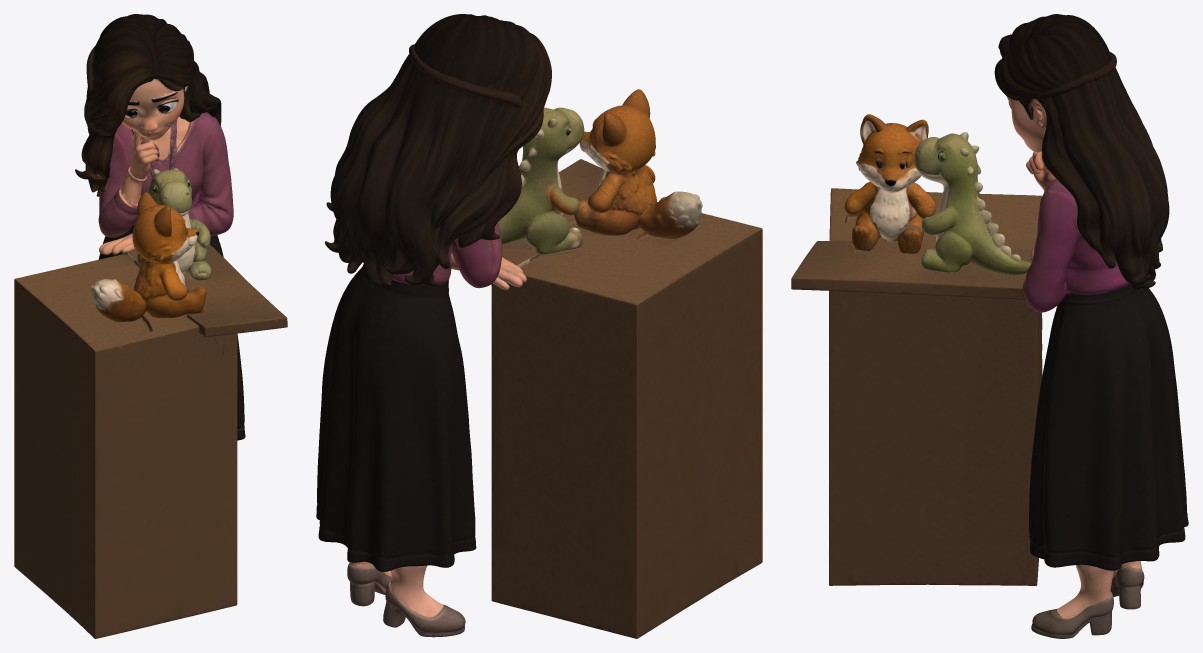
The model's file is chapter4.glb.
The picture shows the model from 3 angles, left to right: view 1: azimuth 30°, elevation 25°; view 2: azimuth 150°, elevation 25°; view 3: azimuth 270°, elevation 25°; orthographic projection. The views are drawn at different scales.
Parts seen in each view (by area): view 1: mesh_node; view 2: mesh_node; view 3: mesh_node.
Boxes of the visible parts, x1,y1,x2,y2 form: mesh_node: (14, 14, 287, 638); mesh_node: (316, 14, 762, 638); mesh_node: (791, 14, 1188, 638).
Bounding box in the file's own units: 1.05 × 2 × 1.27.
Materials: 1 (1 with a texture image).
